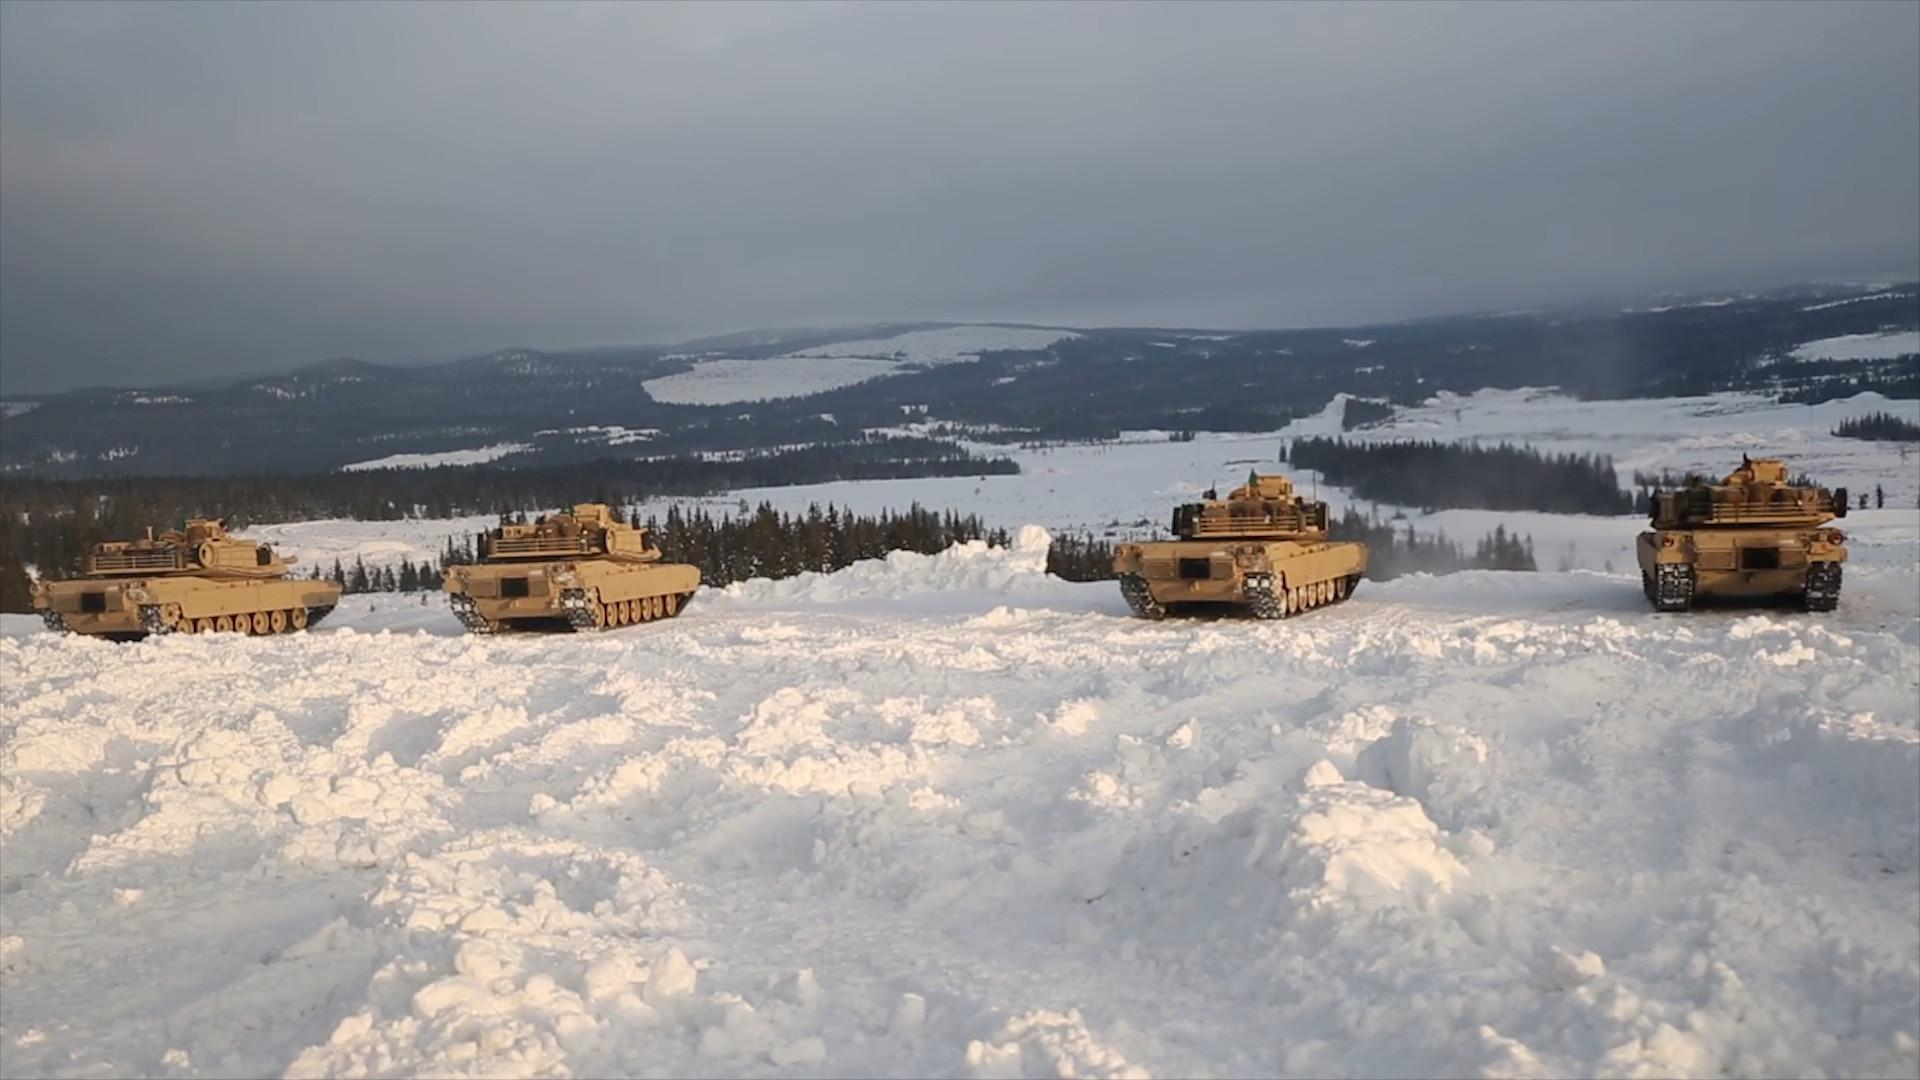tank: (30, 517, 342, 642), (1112, 473, 1367, 621), (440, 505, 702, 632), (1636, 460, 1846, 612)
